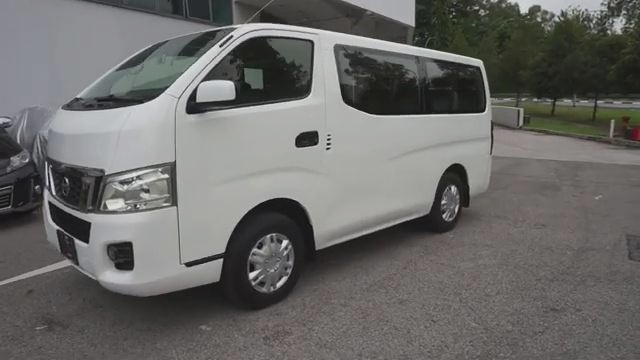van: (33, 21, 494, 306)
